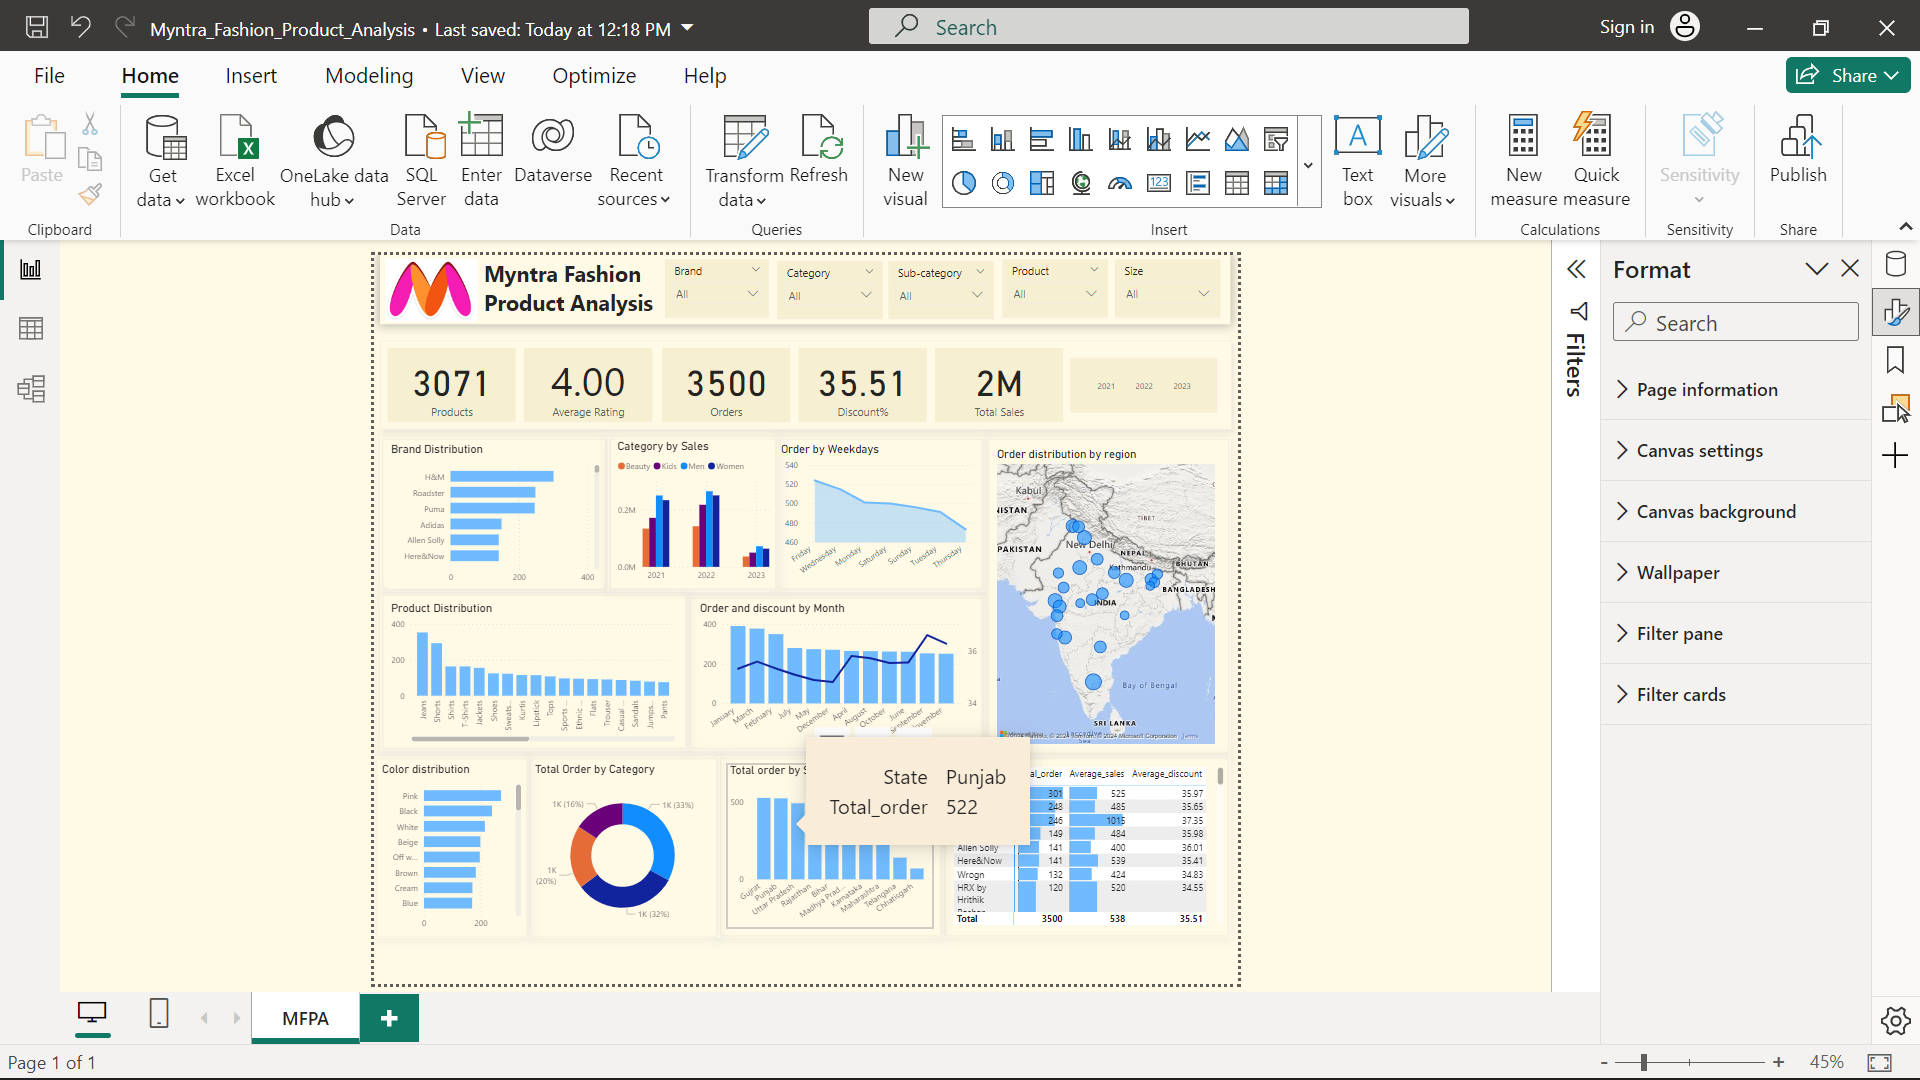

The page's visual inventory and layout, read from the dashboard file:
{"tool":"powerbi","page":{"name":"MFPA","canvas":[1280,1080],"ordinal":0},"visuals":[{"type":"slicer","fields":{"Values":["dim_products.Brand Name"]},"box":[431.4,7.1,154.3,85.7],"z":0,"group":"g1"},{"type":"shape","box":[8.6,0,1260,102.9],"z":0},{"type":"slicer","fields":{"Values":["dim_products.Sub-category"]},"box":[763.5,8.5,155.7,85.7],"z":1000,"group":"g1"},{"type":"shape","box":[0,118.6,1280,150],"z":1000},{"type":"card","fields":{"Values":["fact_orders.Average_discount"]},"box":[628.6,137.1,190,110],"z":2000},{"type":"slicer","fields":{"Values":["dim_products.Product Name"]},"box":[930.3,7.1,155.7,85.7],"z":3000,"group":"g1"},{"type":"slicer","fields":{"Values":["dim_products.Category"]},"box":[596.8,8.6,155.7,85.7],"z":3000},{"type":"slicer","fields":{"Values":["dim_products.Size"]},"box":[1097.1,7.1,155.7,85.7],"z":4000,"group":"g1"},{"type":"card","fields":{"Values":["fact_orders.Total_order"]},"box":[425.7,137.1,190,110],"z":4000},{"type":"card","fields":{"Values":["fact_orders.Average_rating"]},"box":[222.9,137.1,190,110],"z":5000},{"type":"card","fields":{"Values":["fact_orders.Total_sales_amount"]},"box":[831.4,137.1,190,110],"z":6000},{"type":"card","fields":{"Values":["fact_orders.Product_Count"]},"box":[20,138.6,190,110],"z":7000},{"type":"textbox","box":[158.3,0,271.7,103.3],"z":8000},{"type":"image","box":[10,0,148.3,103.3],"z":9000},{"type":"slicer","fields":{"Values":["Date_tab.Year"]},"box":[1032.9,192.9,230,55.7],"z":10000},{"type":"group","id":"g1","title":"Slicer Group ","box":[431.4,7.1,821.4,87.1],"z":11000},{"type":"shape","box":[598.3,268.3,308.3,230],"z":12000},{"type":"shape","box":[8.3,268.3,338.3,230],"z":13000},{"type":"shape","box":[465,505,441.7,230],"z":14000},{"type":"shape","box":[906.7,268.3,363.3,473.3],"z":15000},{"type":"shape","box":[842.9,741.4,427.1,270],"z":16000},{"type":"pivotTable","fields":{"Rows":["dim_products.Brand Name"],"Values":["fact_orders.Total_order","fact_orders.Average_sales_amount","fact_orders.Average_discount"]},"box":[852.9,754.3,410,244.3],"z":17000},{"type":"map","title":"Order distribution by region","fields":{"Category":["dim_customers.City"],"Size":["fact_orders.Total_order"]},"box":[918.3,285,333.3,445],"z":18000},{"type":"areaChart","title":"Order by Weekdays","fields":{"Y":["fact_orders.Total_order"],"Category":["Date_tab.Day of Week"]},"box":[598.3,276.7,298.3,211.7],"z":19000},{"type":"lineClusteredColumnComboChart","title":"Order and discount by Month","fields":{"Category":["Date_tab.Month_NAME"],"Y":["fact_orders.Total_order"],"Y2":["fact_orders.Average_discount"]},"box":[476.7,513.3,420,216.7],"z":20000},{"type":"shape","box":[8.3,500,456.7,235],"z":20500},{"type":"clusteredColumnChart","title":"Product Distribution ","fields":{"Category":["dim_products.Product Name"],"Y":["fact_orders.Total_order"]},"box":[20,513.3,431.1,212.2],"z":21000},{"type":"clusteredBarChart","title":" Brand Distribution","fields":{"Category":["dim_products.Brand Name"],"Y":["fact_orders.Total_order"]},"box":[20,276.7,318.9,216.7],"z":23000},{"type":"shape","box":[508.6,742.9,334.3,270],"z":24000},{"type":"clusteredColumnChart","title":"Total order by State","fields":{"Category":["dim_customers.State"],"Y":["fact_orders.Total_order"]},"box":[521.4,754.3,307.1,244.3],"z":25000},{"type":"shape","box":[230,743,281,270],"z":26000},{"type":"donutChart","title":"Total Order by Category","fields":{"Y":["fact_orders.Total_order"],"Category":["dim_products.Category"]},"box":[234,751,269,257],"z":27000},{"type":"shape","box":[0,743,230,270],"z":28000},{"type":"clusteredBarChart","title":"Color distribution","fields":{"Category":["dim_products.Color"],"Y":["fact_orders.Total_order"]},"box":[7,750,216,257],"z":29000},{"type":"shape","box":[346.7,268.9,252.2,230],"z":29500},{"type":"clusteredColumnChart","title":"Category by Sales","fields":{"Category":["Date_tab.Year"],"Series":["dim_products.Category"],"Y":["fact_orders.Total_sales_amount"]},"box":[355,273.3,235,218.3],"z":30000},{"type":"actionButton","title":"Reset","box":[1095.7,138.6,155.7,44.3],"z":30001}]}

Visuals, with their boxes on the page's 1280x1080 design canvas (x1, y1, x2, y2). These are canvas units, not pixel positions in the 1920x1080 screenshot, which may show the page scaled, cropped or inside an application window:
slicer - dim_products.Brand Name: [431, 7, 586, 93]
shape: [9, 0, 1269, 103]
slicer - dim_products.Sub-category: [764, 8, 919, 94]
shape: [0, 119, 1280, 269]
card - fact_orders.Average_discount: [629, 137, 819, 247]
slicer - dim_products.Product Name: [930, 7, 1086, 93]
slicer - dim_products.Category: [597, 9, 752, 94]
slicer - dim_products.Size: [1097, 7, 1253, 93]
card - fact_orders.Total_order: [426, 137, 616, 247]
card - fact_orders.Average_rating: [223, 137, 413, 247]
card - fact_orders.Total_sales_amount: [831, 137, 1021, 247]
card - fact_orders.Product_Count: [20, 139, 210, 249]
textbox: [158, 0, 430, 103]
image: [10, 0, 158, 103]
slicer - Date_tab.Year: [1033, 193, 1263, 249]
"Slicer Group " group: [431, 7, 1253, 94]
shape: [598, 268, 907, 498]
shape: [8, 268, 347, 498]
shape: [465, 505, 907, 735]
shape: [907, 268, 1270, 742]
shape: [843, 741, 1270, 1011]
pivotTable - dim_products.Brand Name x fact_orders.Total_order: [853, 754, 1263, 999]
"Order distribution by region" map: [918, 285, 1252, 730]
"Order by Weekdays" areaChart: [598, 277, 897, 488]
"Order and discount by Month" lineClusteredColumnComboChart: [477, 513, 897, 730]
shape: [8, 500, 465, 735]
"Product Distribution " clusteredColumnChart: [20, 513, 451, 726]
" Brand Distribution" clusteredBarChart: [20, 277, 339, 493]
shape: [509, 743, 843, 1013]
"Total order by State" clusteredColumnChart: [521, 754, 828, 999]
shape: [230, 743, 511, 1013]
"Total Order by Category" donutChart: [234, 751, 503, 1008]
shape: [0, 743, 230, 1013]
"Color distribution" clusteredBarChart: [7, 750, 223, 1007]
shape: [347, 269, 599, 499]
"Category by Sales" clusteredColumnChart: [355, 273, 590, 492]
"Reset" actionButton: [1096, 139, 1251, 183]
